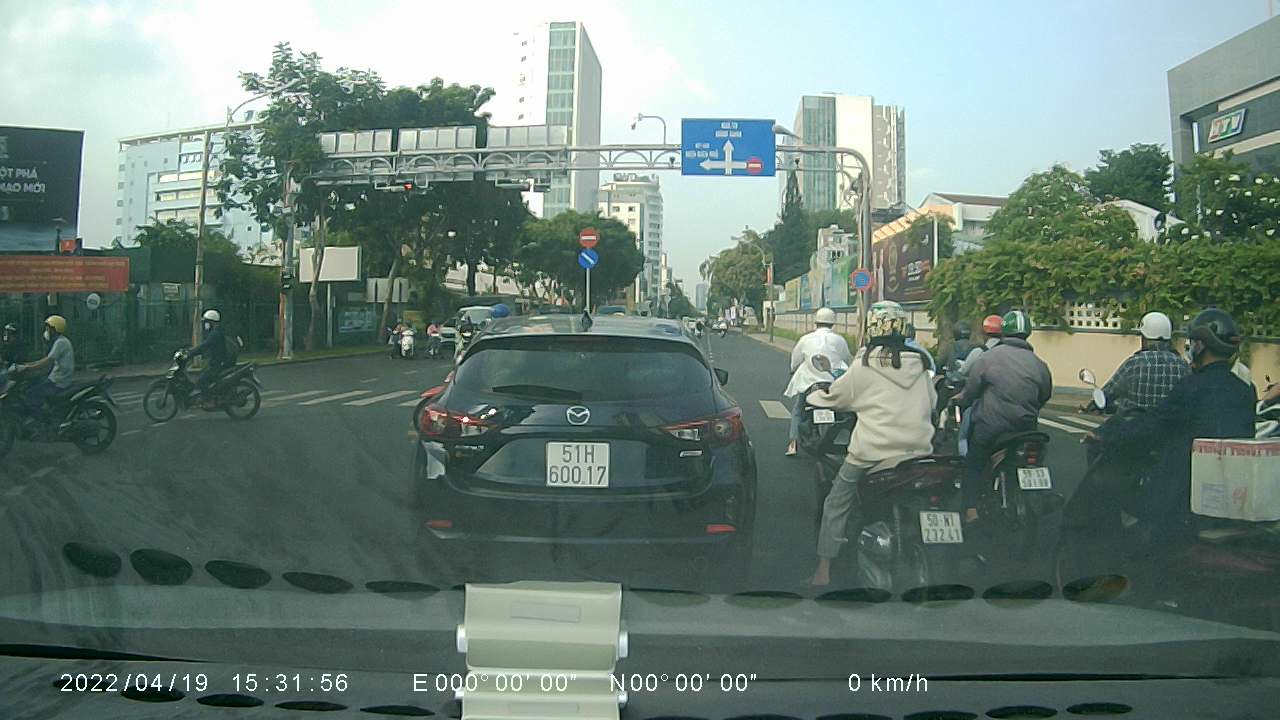Cam di nguoc chieu: (577, 223, 600, 246)
Cam do xe: (850, 263, 878, 289)
Huong di phai re phai: (574, 249, 598, 268)
